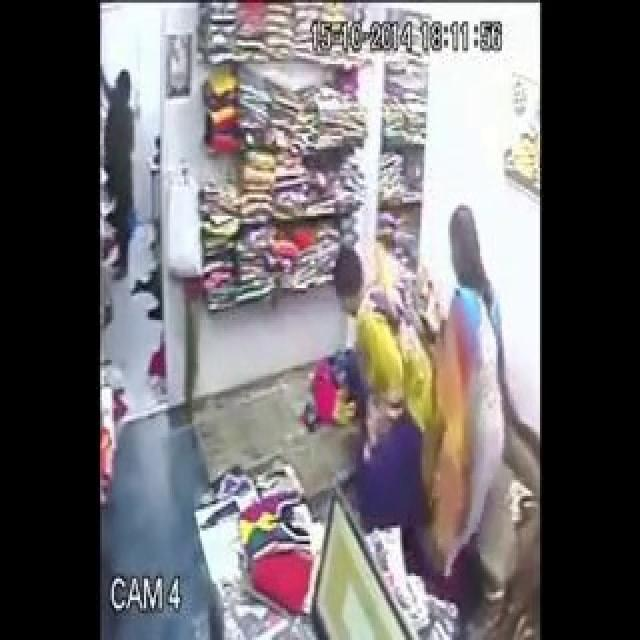Shoplifting: (402, 216, 502, 534)
